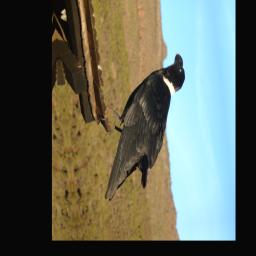Crow: (90, 51, 200, 202)
